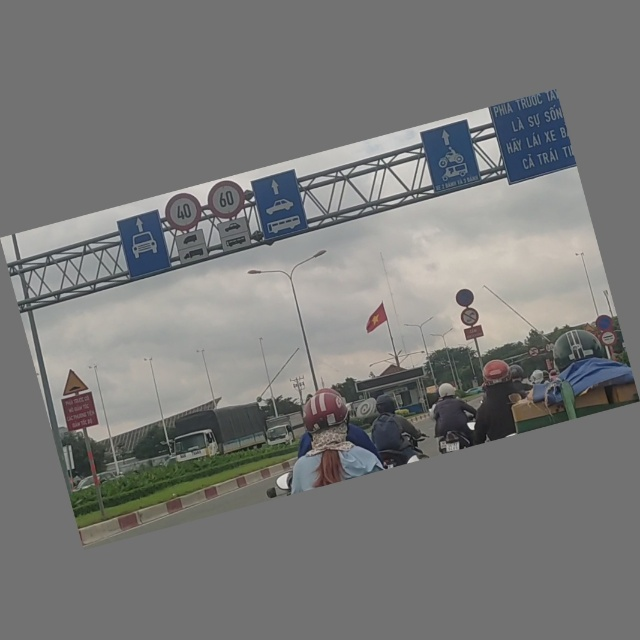P.107: (527, 345, 541, 359), (543, 342, 557, 355)
P.111: (459, 306, 481, 328)
P.127*40: (161, 190, 207, 236)
P.127*60: (204, 177, 249, 223)
P.129: (599, 330, 618, 348)
P.130: (455, 287, 477, 309)
P.131a: (594, 314, 615, 334)
W.221b: (57, 366, 90, 398), (581, 322, 596, 335)
